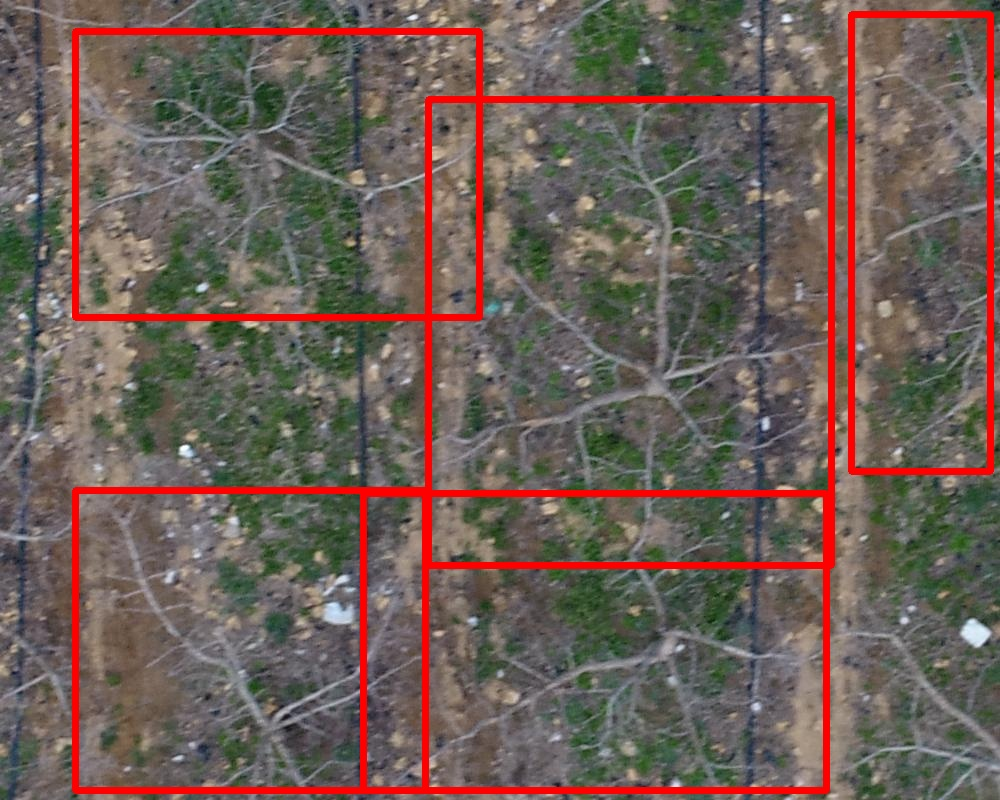apple: (428, 99, 831, 565), (363, 493, 826, 790), (75, 31, 479, 317), (75, 490, 425, 790), (851, 14, 990, 471)
